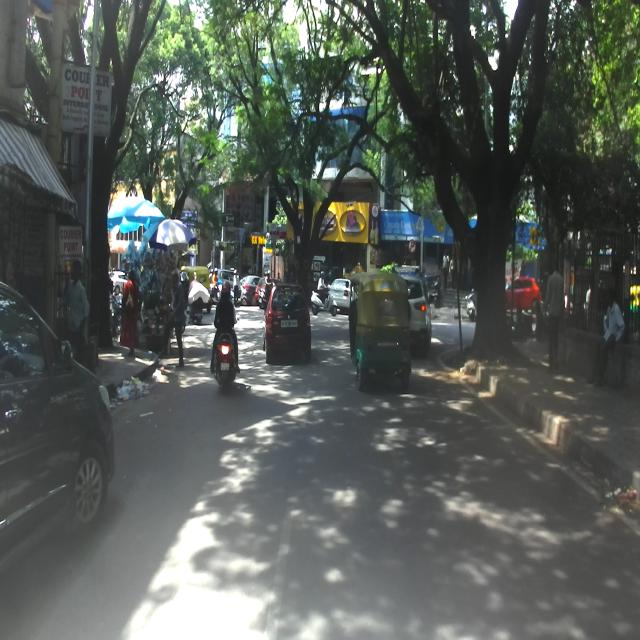auto ahead at: (343, 269, 414, 390)
car ahead at: (0, 265, 117, 582), (262, 277, 314, 364)
motorcycle ahead at: (207, 334, 245, 394)
tree ahead at: (404, 0, 554, 377)
